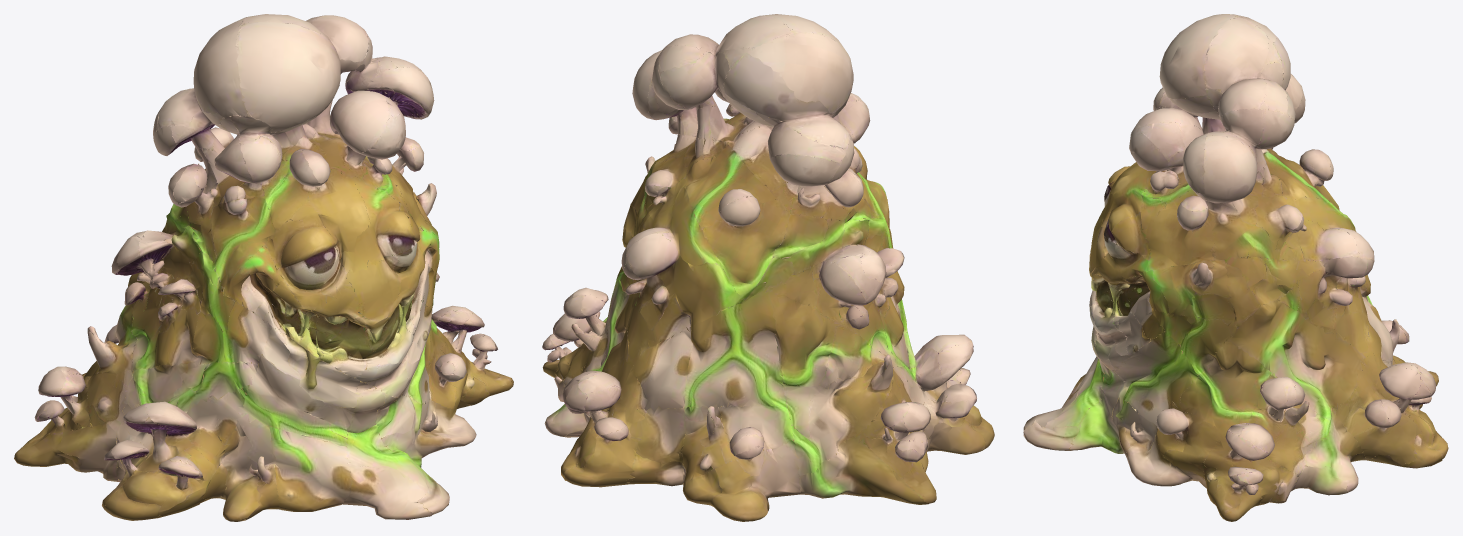
The picture shows the model from 3 angles, left to right: view 1: azimuth 30°, elevation 25°; view 2: azimuth 150°, elevation 25°; view 3: azimuth 270°, elevation 25°; orthographic projection. The views are drawn at different scales.
Visible parts, largest first — view 1: Mesh_0; view 2: Mesh_0; view 3: Mesh_0.
Boxes of the visible parts, <box> form: Mesh_0: <box>14,14,513,521</box>; Mesh_0: <box>542,14,994,521</box>; Mesh_0: <box>1023,14,1448,521</box>.
Bounding box in the file's own units: 1.87 × 1.67 × 1.65.
1 material, 1 textured.
